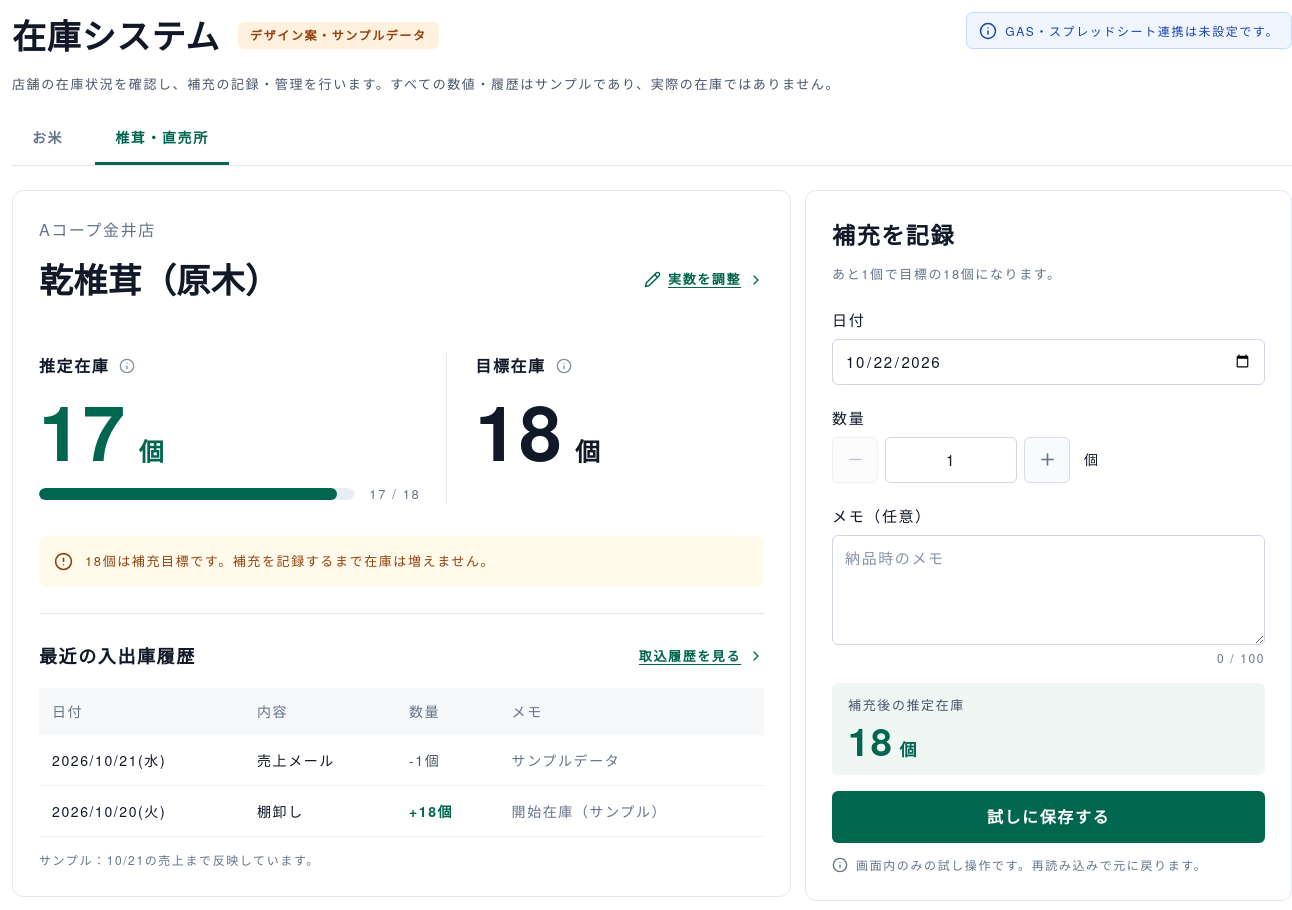
Test: rejects invalid restock quantity -1
Replace the text in the number field labelled "数量" with "-1": (951, 460) x1=885 y1=437 x2=1017 y2=483
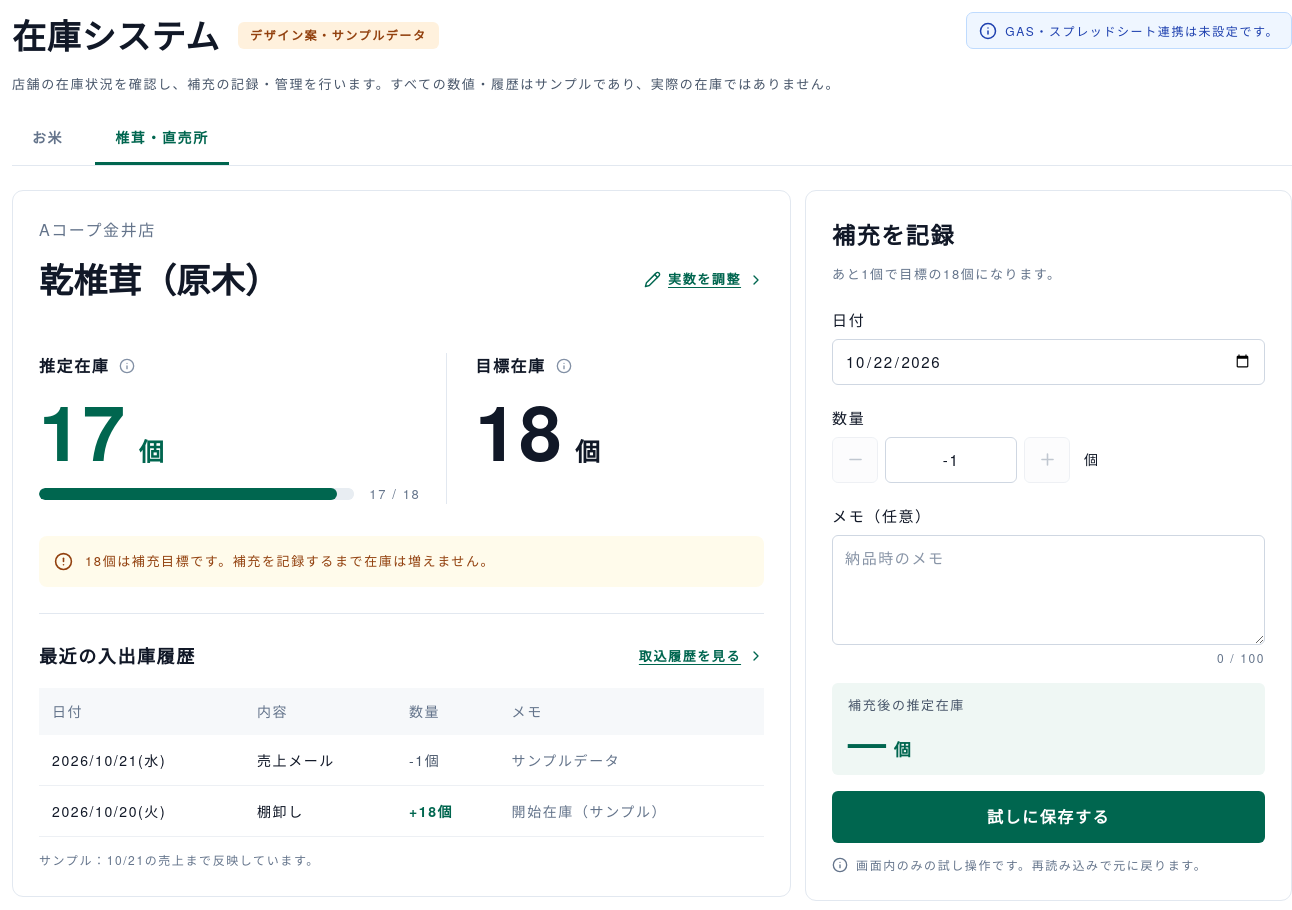
Click the button "試しに保存する": (1049, 817) x1=832 y1=791 x2=1265 y2=843
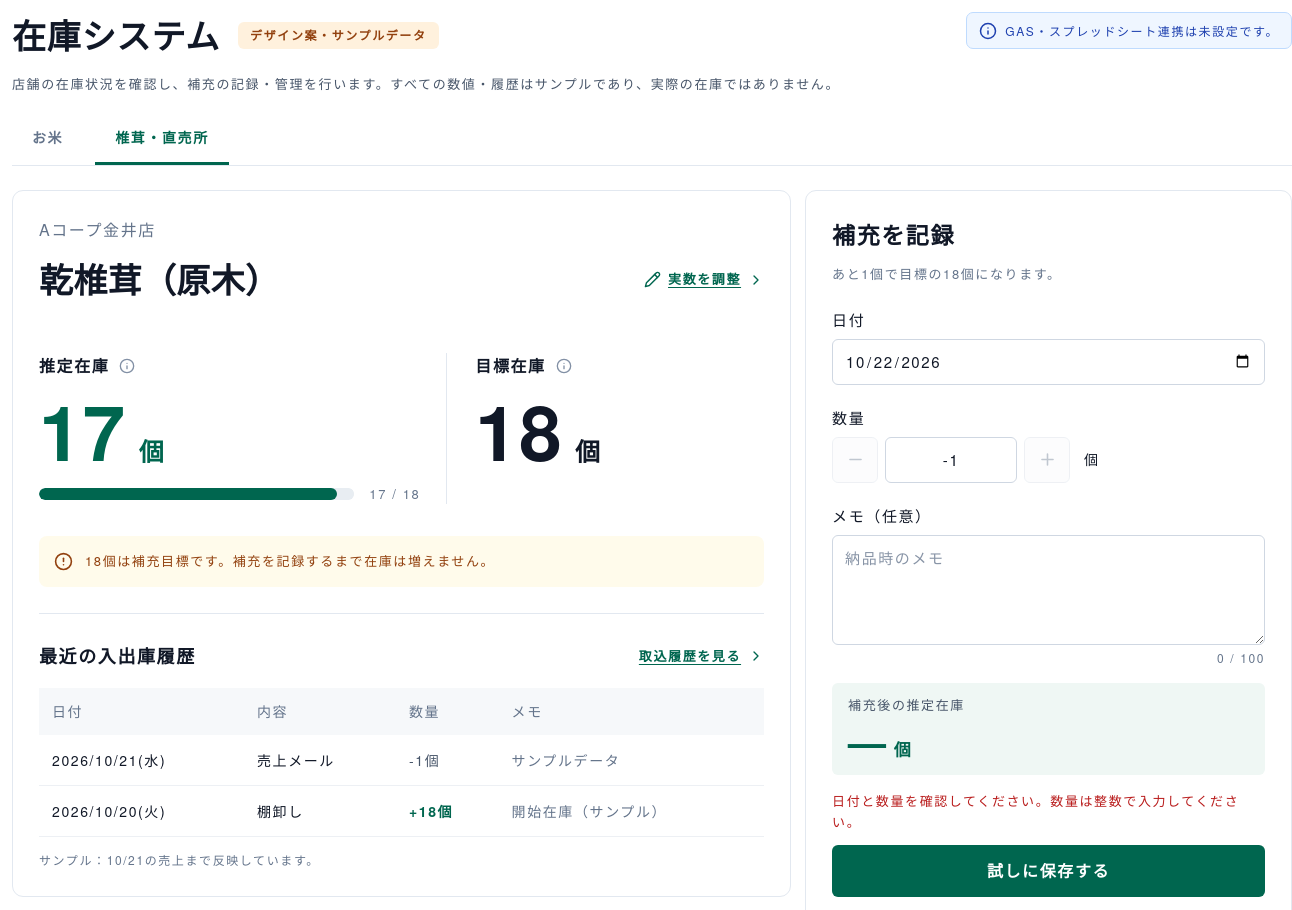
Now the message "日付と数量を確認してください。数量は整数で入力してください。" is shown, box x1=832 y1=791 x2=1265 y2=833
